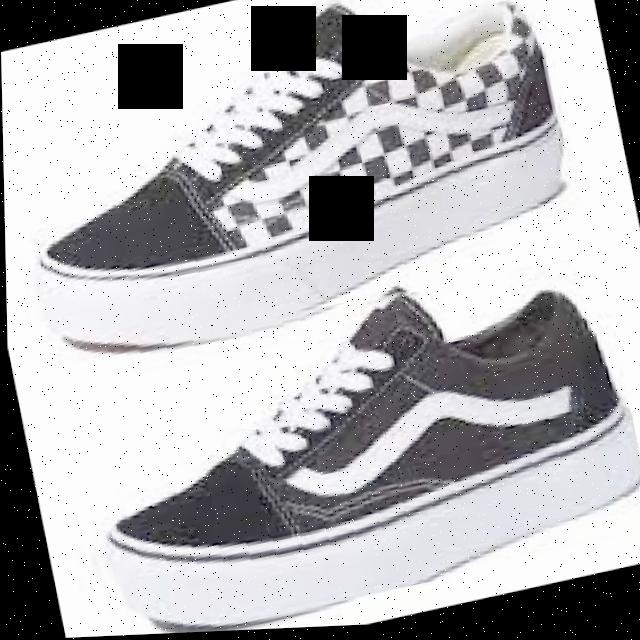shoe: (39, 239, 640, 639), (0, 0, 627, 374)
